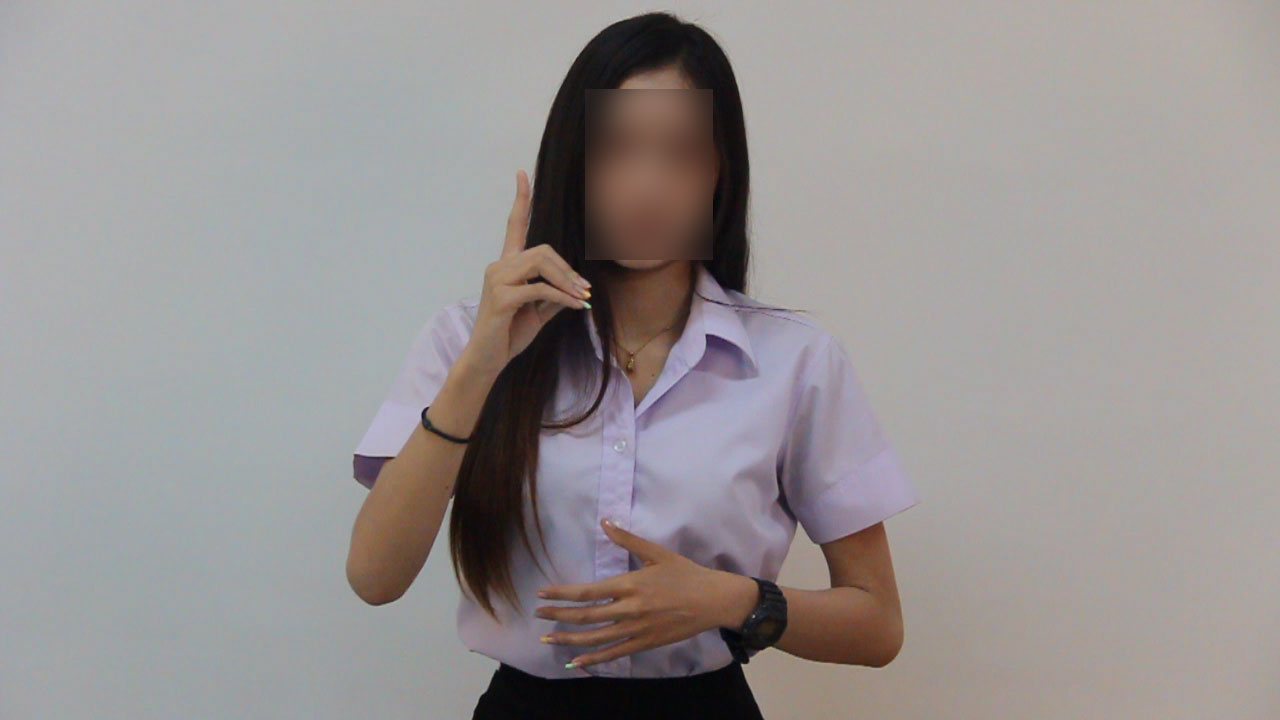dor: (453, 159, 600, 368)
